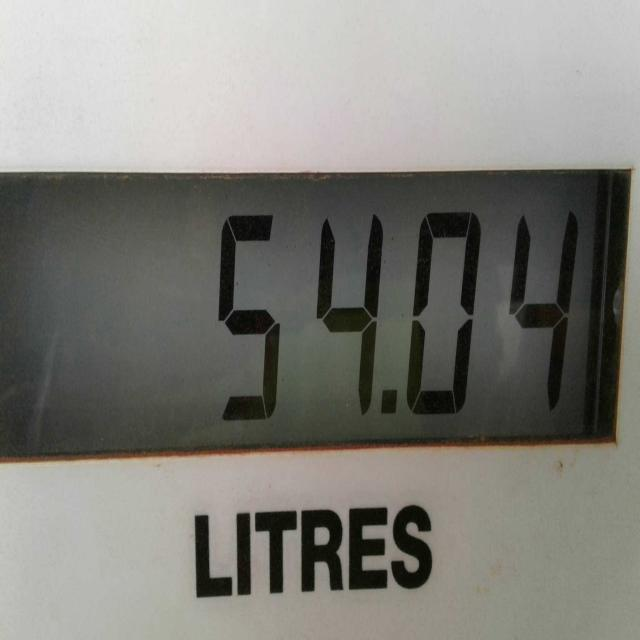.: (376, 370, 408, 434)
0: (402, 204, 486, 440)
4: (307, 182, 388, 438), (499, 192, 586, 416)
5: (198, 196, 284, 427)
